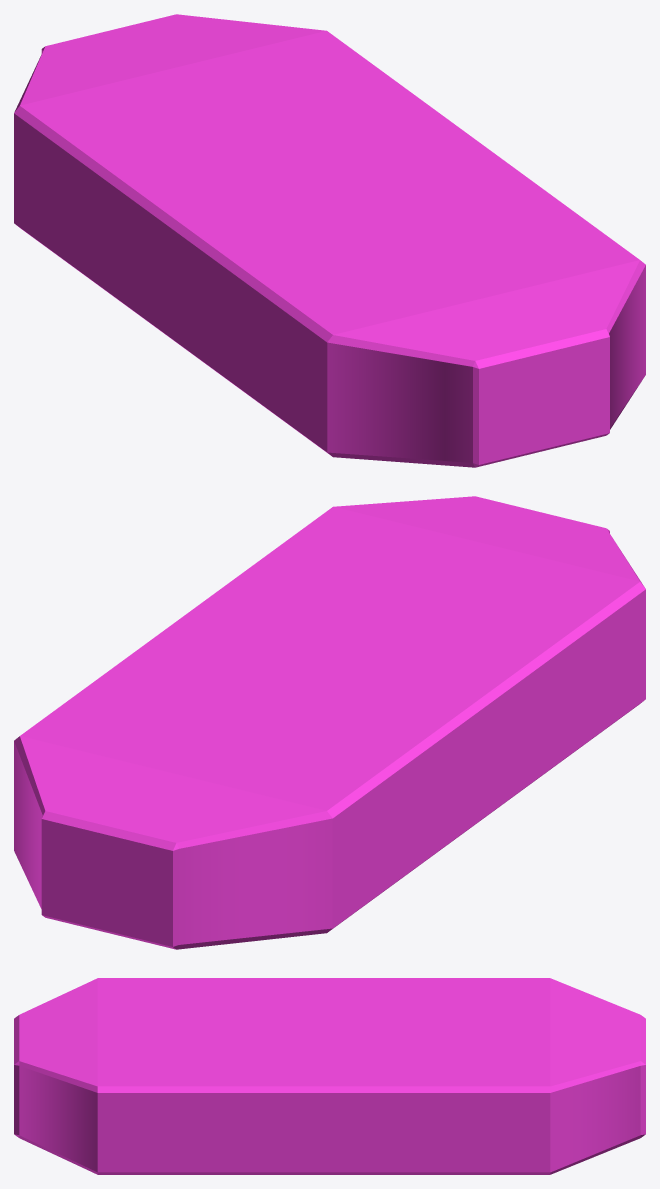
File: gum.fbx
3 renders of one model, top to bottom at view 1: azimuth 30°, elevation 25°; view 2: azimuth 150°, elevation 25°; view 3: azimuth 270°, elevation 25°, orthographic. The views are drawn at different scales.
Visible parts, largest first — view 1: Object004; view 2: Object004; view 3: Object004.
Part boxes in pixels (x1,y1,x2,y2): Object004: (14, 14, 645, 467); Object004: (14, 496, 645, 949); Object004: (14, 978, 645, 1174).
Size of the model in its own units: 58.89 by 21.58 by 140.
